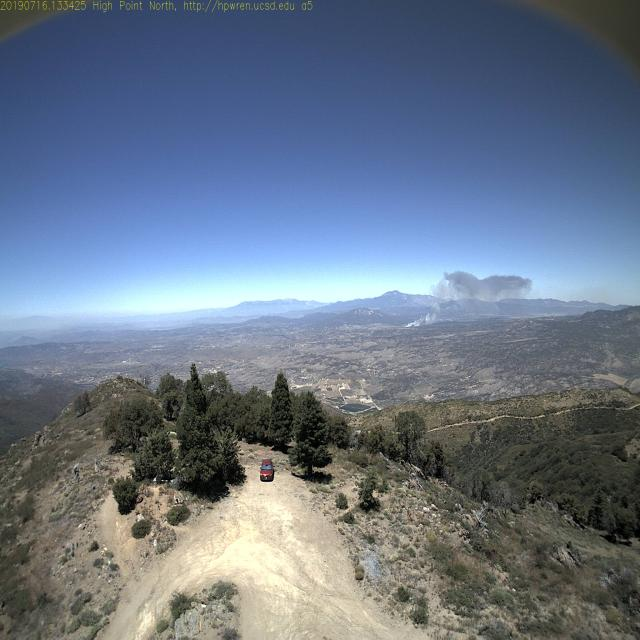smoke: (397, 289, 439, 342)
